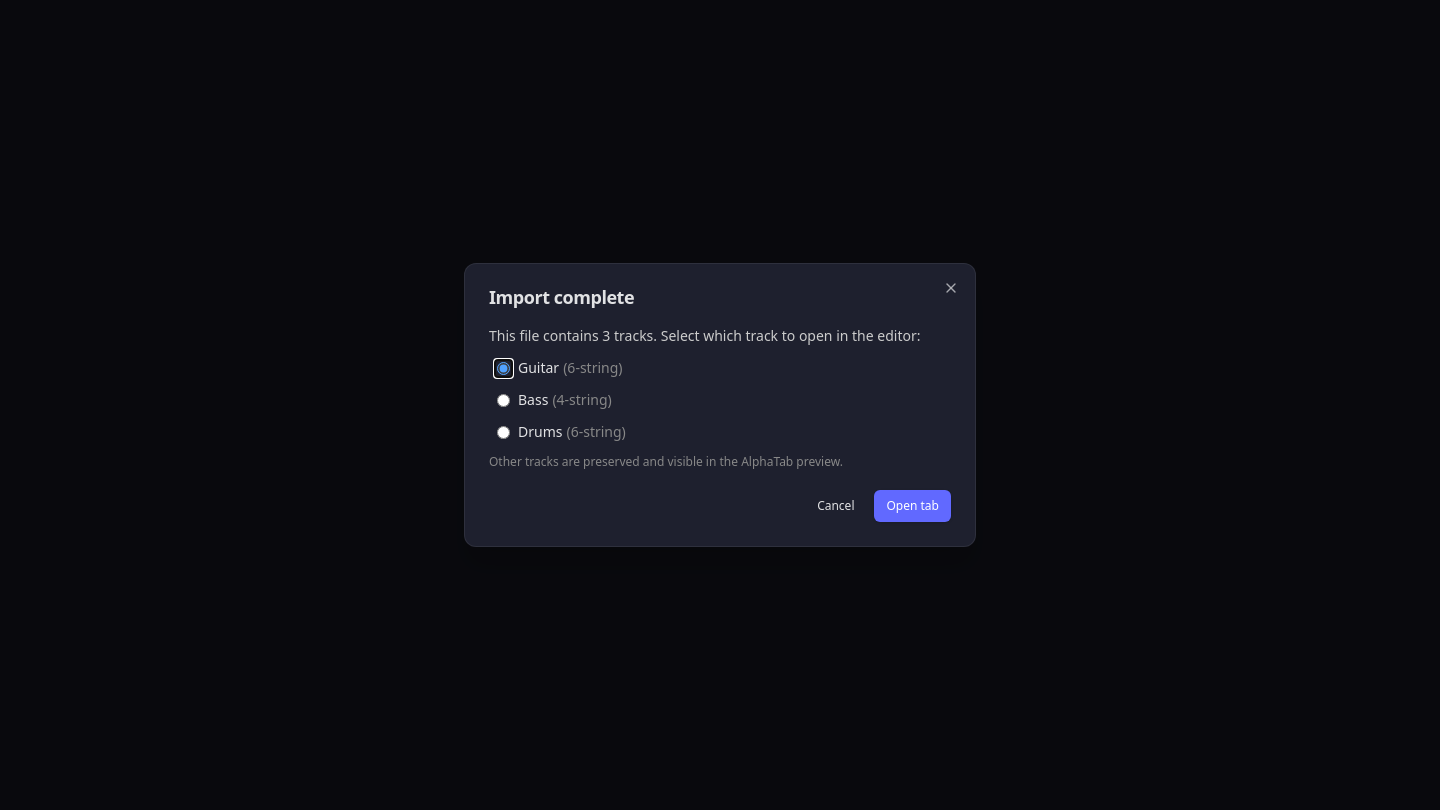
it: ImportCompletedModal multi-track › selecting a radio updates the checked state
Click the radio button labelled "Bass(4-string)".
click(504, 400)  # box [497,394,510,406]
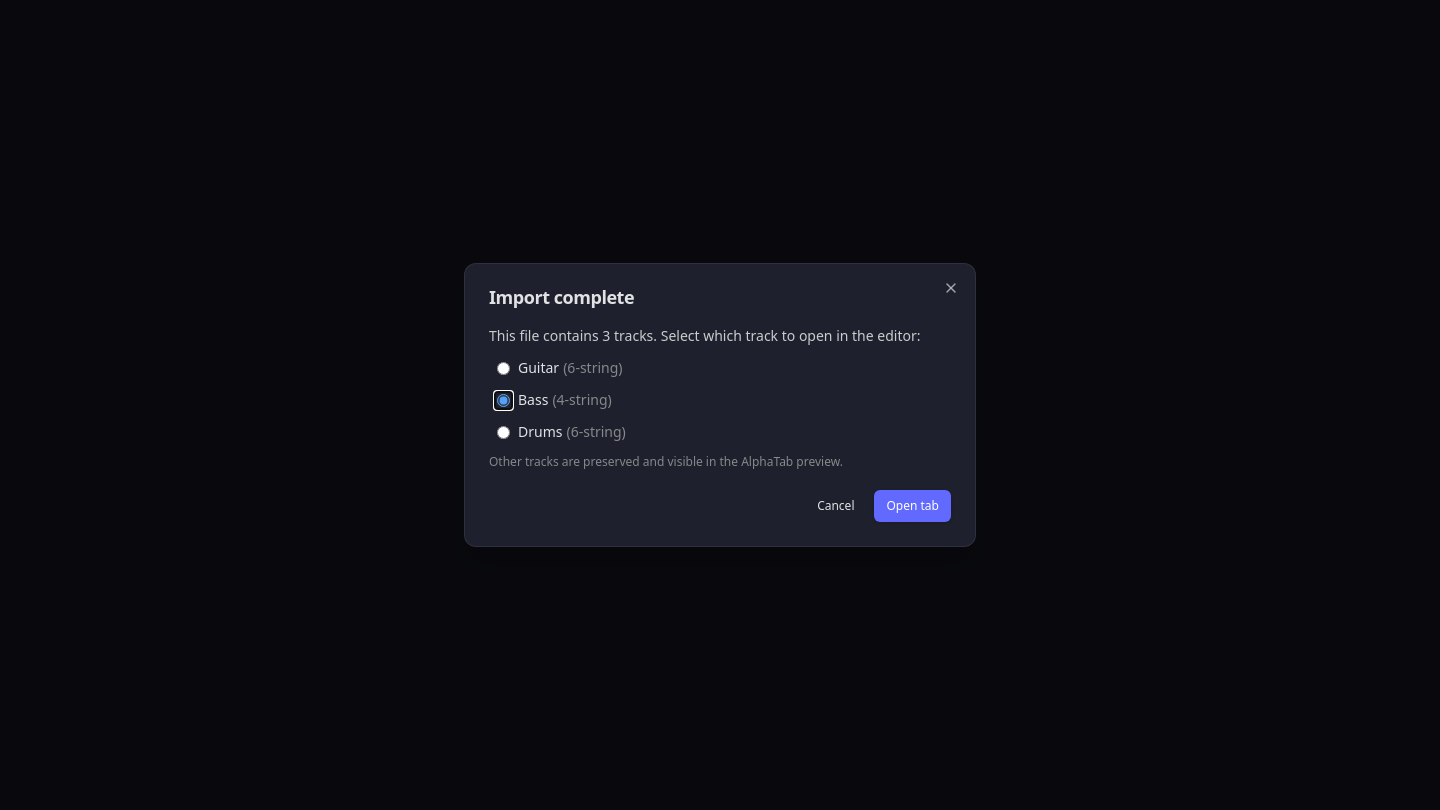
expect the radio button labelled "Bass(4-string)" is checked: met, box [497,394,510,406]
expect the radio button labelled "Guitar(6-string)" is not checked: met, box [497,362,510,374]
